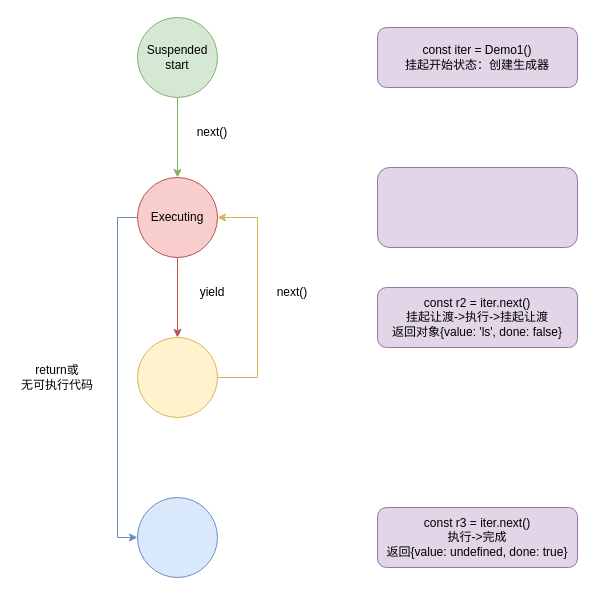
This 595x595 diagram has some shape labels left out. Each missing label, with the centre of its shape:
Completed: point (177, 537)
const r1 = iter.next() 执行->挂起让渡 next内部遇到了yield挂起， 返回对象{value: 'zs', done: false}: point (477, 207)
Suspended yield: point (177, 377)
